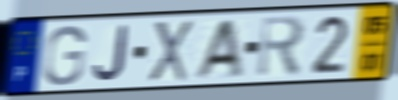2: (312, 14, 351, 76)
A: (190, 17, 245, 82)
G: (41, 24, 88, 88)
J: (91, 24, 130, 83)
R: (255, 14, 308, 81)
X: (146, 18, 194, 84)
